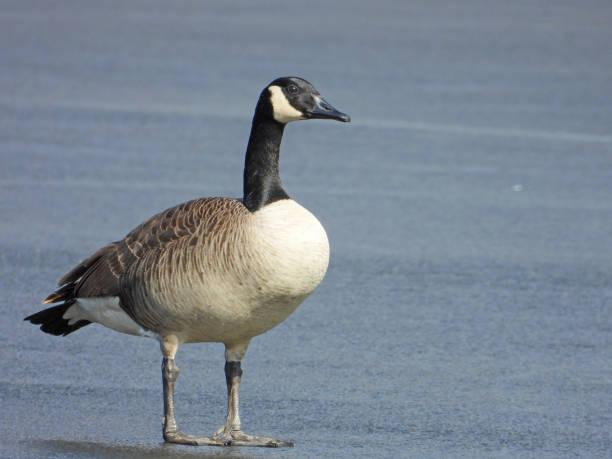Canadian-Goose: (28, 72, 357, 459)
